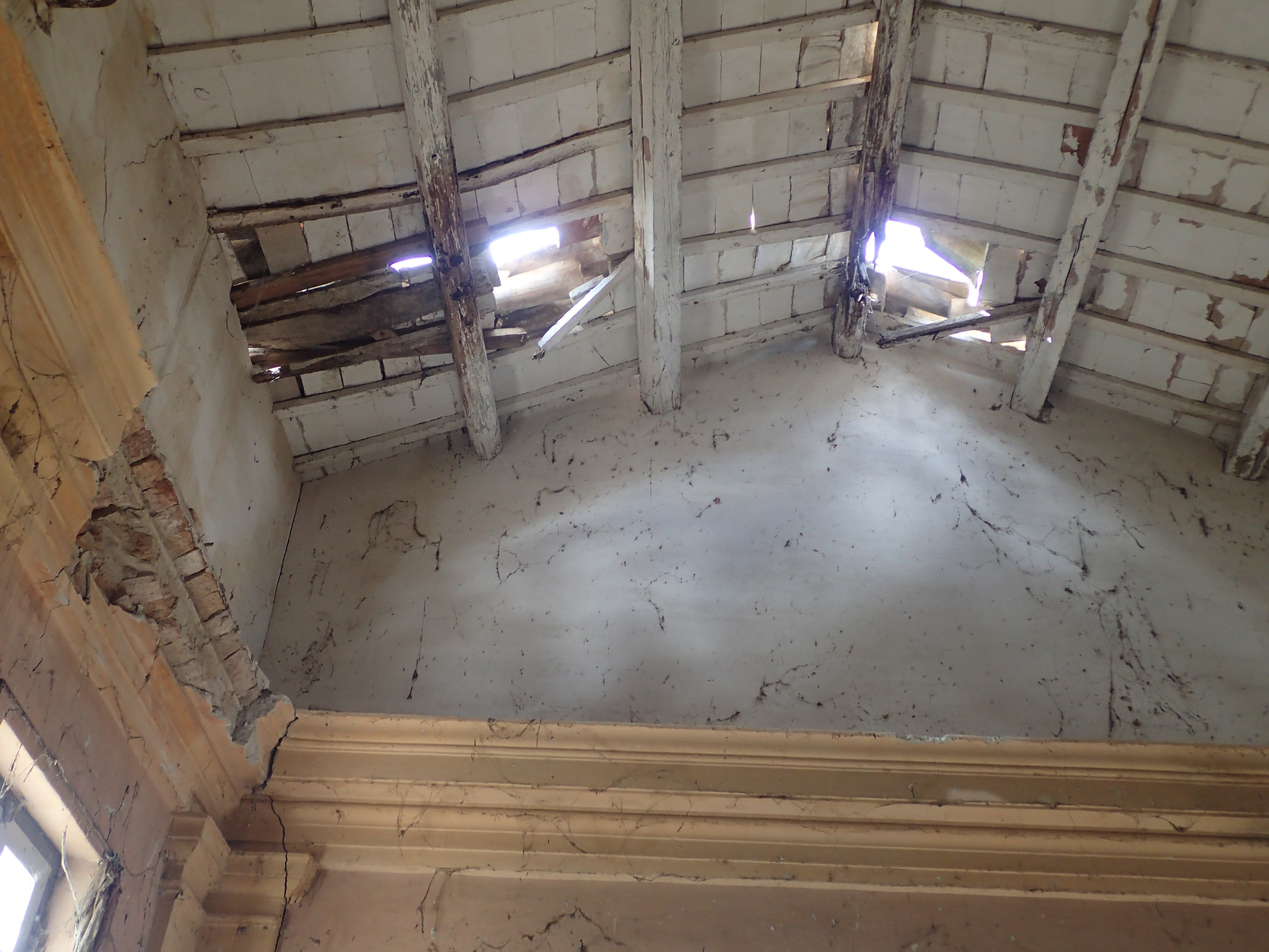Crack: (181, 664, 386, 950)
Spalling: (49, 387, 288, 757)
